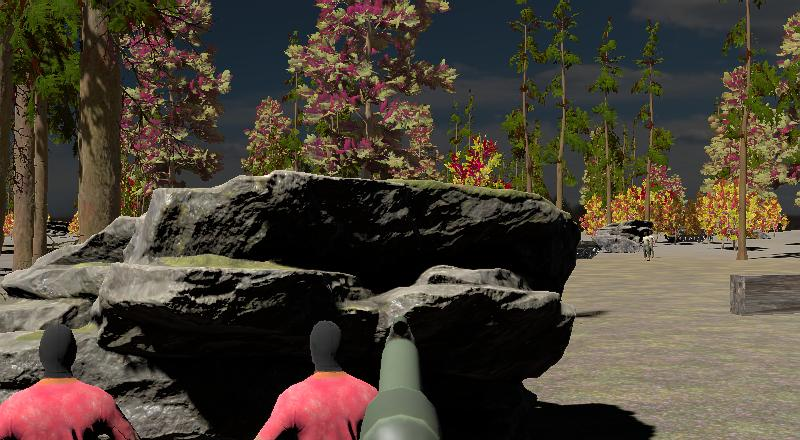Human: (221, 321, 431, 440), (0, 322, 166, 440), (642, 233, 654, 263)
